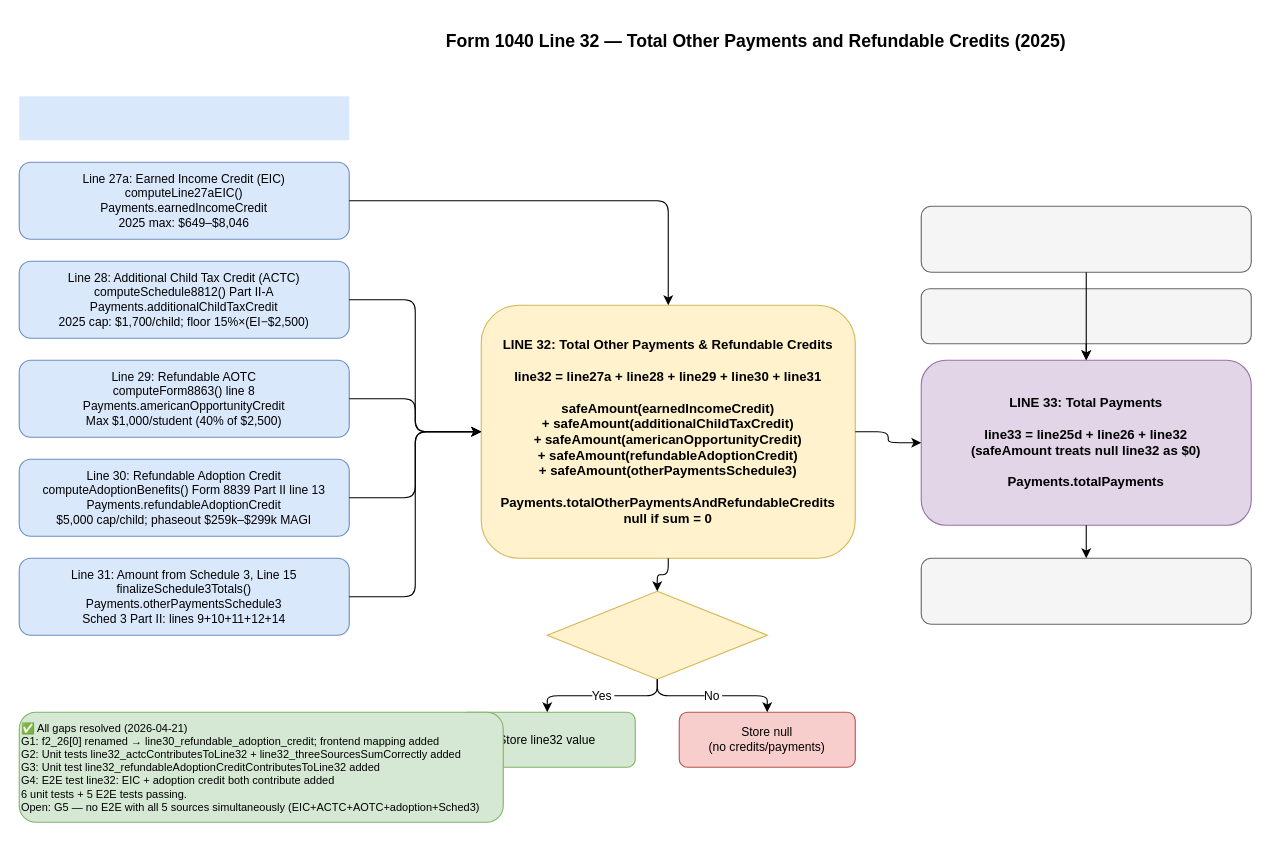
This 1271x842 diagram has some shape labels left out. The shapes that lost their labels are listed below. From the top down, each one's box as (x1, y1, x2, y2) in pixels, then its label:
(19, 96, 349, 140): INPUTS (computed upstream)
(920, 205, 1251, 272): Line 25d: Total Withholding (25a + 25b + 25c)
(920, 288, 1251, 344): Line 26: Estimated Tax Payments computeLine26EstimatedTax()
(920, 557, 1251, 624): Line 34: Overpaid (line33 − line24) Line 37: Amount Owed (line24 − line33)
(546, 590, 767, 679): line32 > 0?
